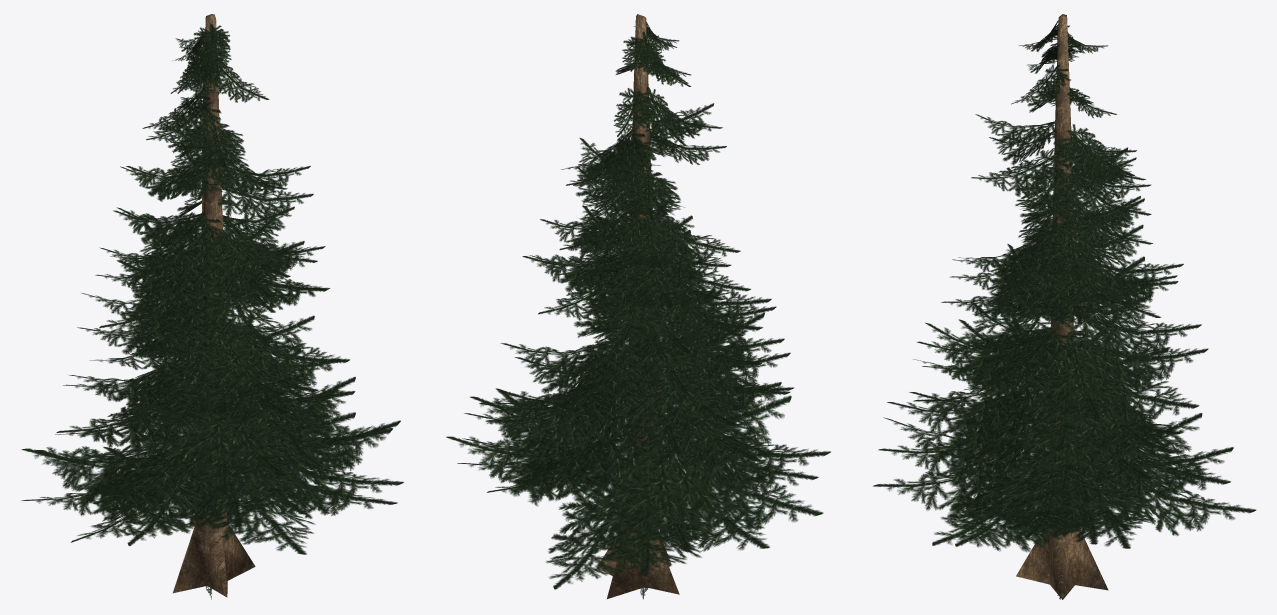
File: pine_tree_1.gltf
3 views of the same model, side by side, from view 1: azimuth 30°, elevation 25°; view 2: azimuth 150°, elevation 25°; view 3: azimuth 270°, elevation 25° (orthographic).
Visible parts, largest first — view 1: Leaves (×72), Tree; view 2: Leaves (×69), Tree; view 3: Leaves (×65), Tree.
Boxes of the visible parts, box(x1,y1,x2,y2) form: Leaves (×72): box(21, 23, 403, 554); Tree: box(173, 14, 255, 597); Leaves (×69): box(446, 31, 830, 589); Tree: box(597, 14, 679, 598); Leaves (×65): box(873, 64, 1256, 552); Tree: box(1016, 14, 1108, 599).
Bounding box in the file's own units: 10.15 × 16.73 × 10.26.
2 materials, 2 textured.
